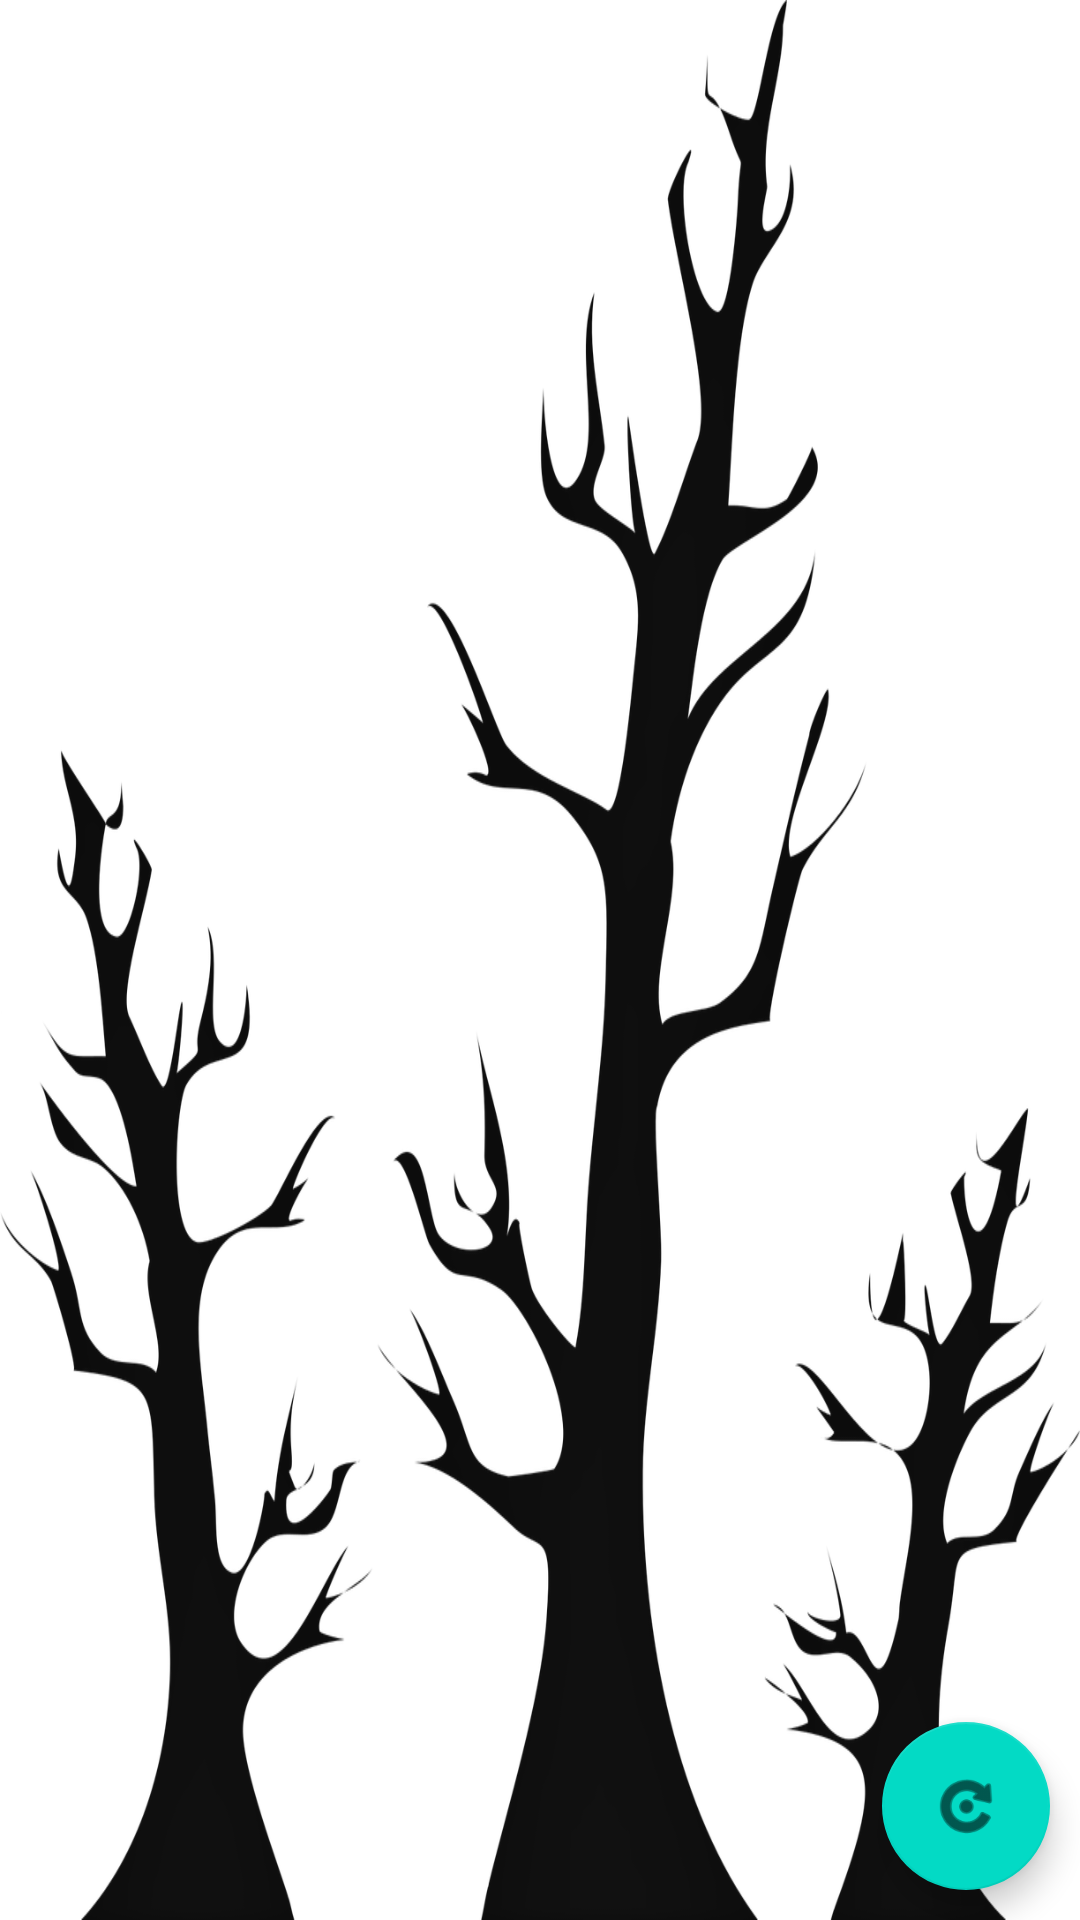

Screen size 1080 x 1920. Icon name, then its center in pixels as (x=x, y=y):
rotate: (x=966, y=1806)
